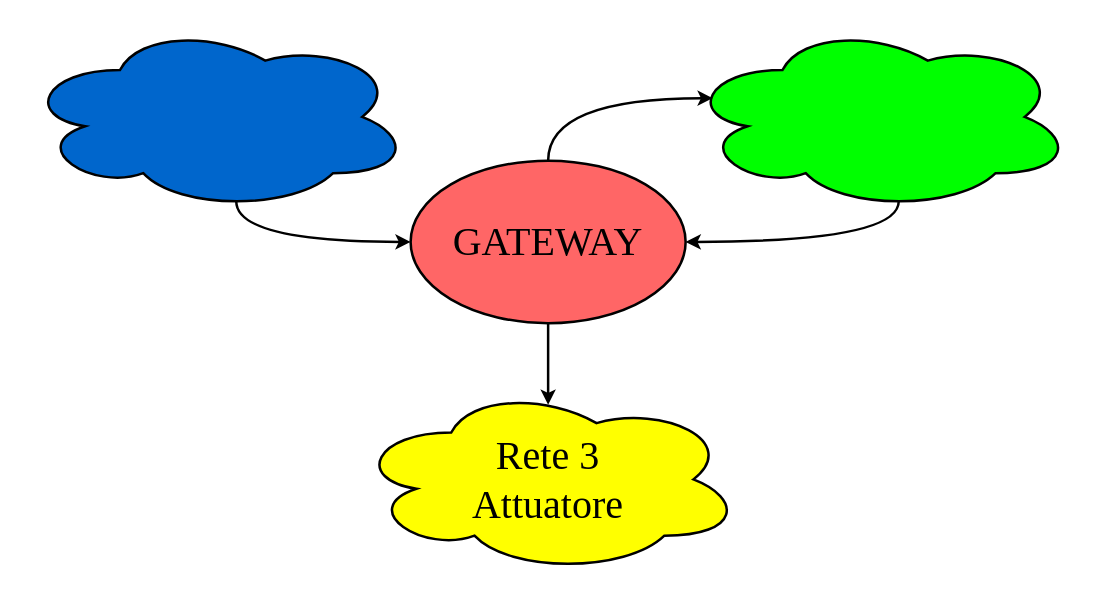
Some shapes in this 1095 by 595 pixel diagram are drawn without their labels. Here are the shapes that lost their labels. From the top down, the centre of each, then its label:
[216,116]: Rete 1 Sensori
[879,116]: Rete 2 Controllore
